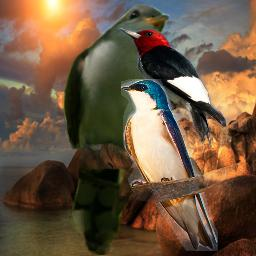Cuckoo: (62, 4, 170, 255)
Swallow: (121, 79, 218, 251)
Woodpecker: (116, 27, 229, 150)
